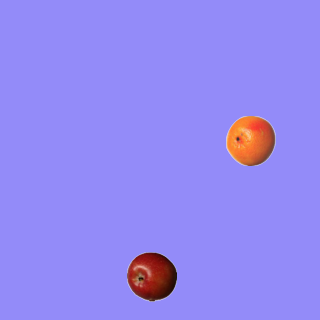Apple Braeburn: (126, 251, 176, 301)
Grapefruit Pink: (225, 115, 275, 165)
